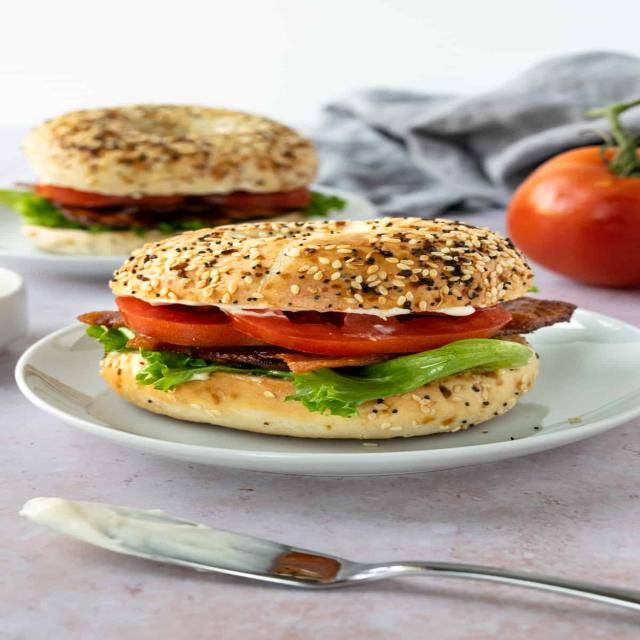Bagel: (111, 218, 532, 316), (101, 351, 538, 439), (24, 105, 317, 196)
